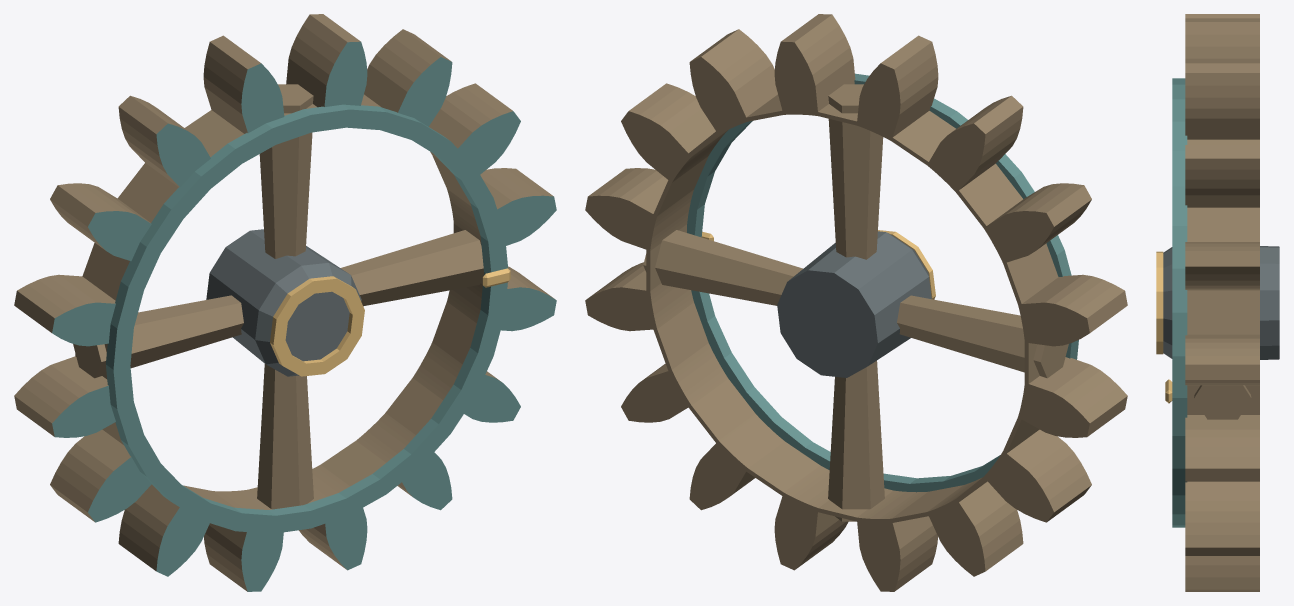
The model's file is roue_intermediaire.glb.
The picture shows the model from 3 angles, left to right: view 1: azimuth 30°, elevation 25°; view 2: azimuth 150°, elevation 25°; view 3: azimuth 270°, elevation 25°; orthographic projection.
Visible parts, largest first — view 1: Denture.001, Épaulement.001, Moyeu graissé.001, Rayon.007, Rayon.004, Rayon.005, Rayon.006, Virole.001; view 2: Denture.001, Moyeu graissé.001, Épaulement.001, Rayon.005, Rayon.006, Rayon.007, Rayon.004; view 3: Denture.001, Épaulement.001, Moyeu graissé.001, Rayon.004, Virole.001.
Part boxes in pixels (x1=…): Denture.001: x1=14, y1=14, x2=556, y2=591; Épaulement.001: x1=105, y1=104, x2=508, y2=533; Moyeu graissé.001: x1=206, y1=229, x2=361, y2=376; Rayon.007: x1=257, y1=364, x2=313, y2=509; Rayon.004: x1=340, y1=230, x2=483, y2=306; Rayon.005: x1=259, y1=84, x2=313, y2=258; Rayon.006: x1=73, y1=295, x2=243, y2=378; Virole.001: x1=270, y1=276, x2=364, y2=376; Denture.001: x1=585, y1=14, x2=1127, y2=591; Moyeu graissé.001: x1=777, y1=231, x2=931, y2=377; Épaulement.001: x1=687, y1=73, x2=1078, y2=492; Rayon.005: x1=828, y1=84, x2=883, y2=259; Rayon.006: x1=897, y1=295, x2=1068, y2=378; Rayon.007: x1=828, y1=360, x2=884, y2=521; Rayon.004: x1=643, y1=230, x2=802, y2=305; Denture.001: x1=1185, y1=14, x2=1259, y2=591; Épaulement.001: x1=1172, y1=78, x2=1187, y2=527; Moyeu graissé.001: x1=1163, y1=246, x2=1279, y2=359; Rayon.004: x1=1194, y1=385, x2=1251, y2=419; Virole.001: x1=1156, y1=251, x2=1163, y2=354.
Bounding box in the file's own units: 1.4 × 1.4 × 0.301.
